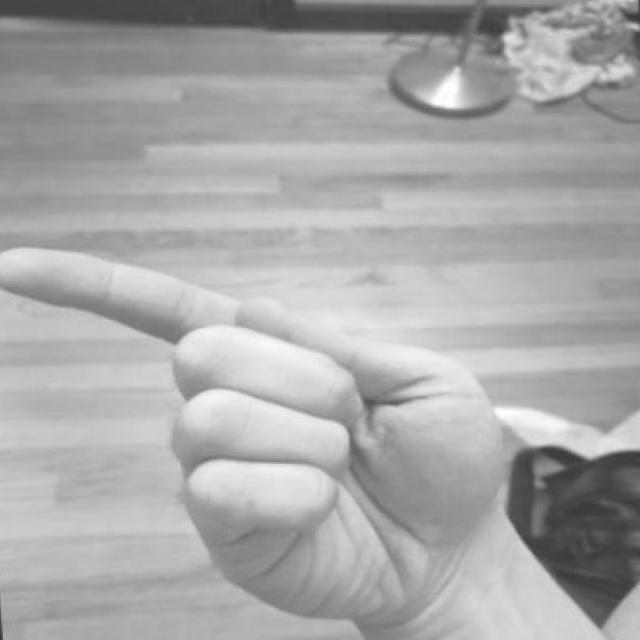G: (0, 228, 514, 639)
